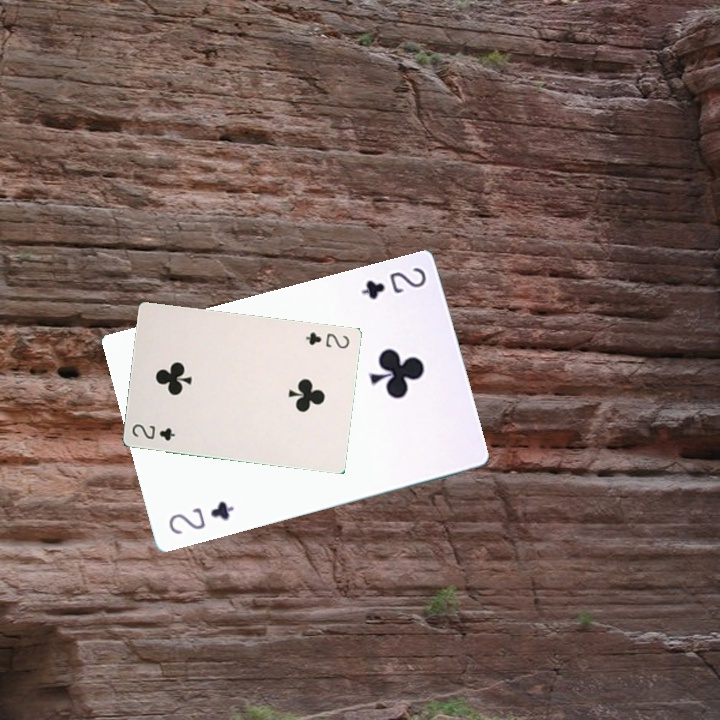2c: (164, 496, 237, 537), (357, 263, 429, 302), (301, 328, 352, 351), (128, 420, 178, 443)
